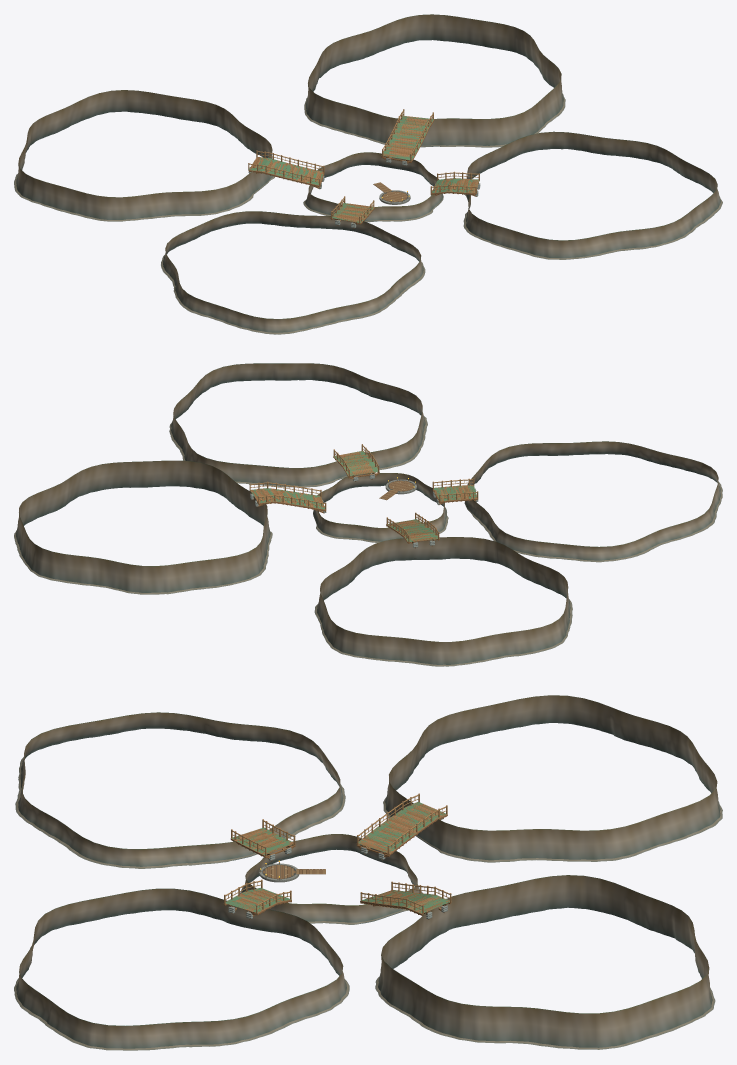
File: grade4-landscape-details-v4.glb
3 renders of one model, top to bottom at view 1: azimuth 30°, elevation 25°; view 2: azimuth 150°, elevation 25°; view 3: azimuth 270°, elevation 25°, orthographic. The views are drawn at different scales.
Visible parts, largest first — view 1: CoastV4_habitat-4_RockSection, CoastV4_habitat-3_RockSection, CoastV4_habitat-2_RockSection, CoastV4_habitat-1_RockSection, CoastV4_arrival_RockSection, Walk_BridgeV4_habitat-4_ContinuousProxy, CoastV4_habitat-1_WetShore, CoastV4_habitat-2_WetShore, CoastV4_habitat-3_WetShore, Walk_BridgeV4_habitat-3_ContinuousProxy, CoastV4_habitat-4_WetShore, BridgeV4_habitat-3_structure_V4_honey_rail; view 2: CoastV4_habitat-4_RockSection, CoastV4_habitat-3_RockSection, CoastV4_habitat-2_RockSection, CoastV4_habitat-1_RockSection, CoastV4_arrival_RockSection, CoastV4_habitat-3_WetShore, CoastV4_habitat-4_WetShore, CoastV4_habitat-1_WetShore, CoastV4_habitat-2_WetShore, BridgeV4_habitat-4_structure_V4_honey_rail, Walk_BridgeV4_habitat-2_ContinuousProxy; view 3: CoastV4_habitat-4_RockSection, CoastV4_habitat-3_RockSection, CoastV4_habitat-2_RockSection, CoastV4_habitat-1_RockSection, CoastV4_arrival_RockSection, CoastV4_habitat-2_WetShore, Walk_BridgeV4_habitat-3_ContinuousProxy, CoastV4_habitat-4_WetShore, CoastV4_habitat-1_WetShore, CoastV4_habitat-3_WetShore, Walk_BridgeV4_habitat-4_ContinuousProxy, BridgeV4_habitat-3_structure_V4_honey_rail (+2 smaller).
Part boxes in pixels (x1,y1,x2,y2): CoastV4_habitat-4_RockSection: [306, 14, 563, 147]; CoastV4_habitat-3_RockSection: [16, 90, 273, 219]; CoastV4_habitat-2_RockSection: [466, 131, 720, 258]; CoastV4_habitat-1_RockSection: [163, 211, 423, 332]; CoastV4_arrival_RockSection: [305, 152, 443, 222]; Walk_BridgeV4_habitat-4_ContinuousProxy: [383, 116, 433, 159]; CoastV4_habitat-1_WetShore: [161, 228, 425, 334]; CoastV4_habitat-2_WetShore: [463, 194, 722, 259]; CoastV4_habitat-3_WetShore: [14, 173, 274, 221]; Walk_BridgeV4_habitat-3_ContinuousProxy: [249, 157, 322, 185]; CoastV4_habitat-4_WetShore: [304, 94, 565, 147]; BridgeV4_habitat-3_structure_V4_honey_rail: [248, 151, 324, 186]; CoastV4_habitat-4_RockSection: [16, 460, 270, 592]; CoastV4_habitat-3_RockSection: [317, 537, 570, 664]; CoastV4_habitat-2_RockSection: [171, 363, 425, 485]; CoastV4_habitat-1_RockSection: [465, 441, 720, 560]; CoastV4_arrival_RockSection: [313, 473, 446, 541]; CoastV4_habitat-3_WetShore: [314, 558, 572, 666]; CoastV4_habitat-4_WetShore: [14, 530, 272, 594]; CoastV4_habitat-1_WetShore: [464, 481, 722, 562]; CoastV4_habitat-2_WetShore: [169, 416, 427, 487]; BridgeV4_habitat-4_structure_V4_honey_rail: [249, 482, 326, 509]; Walk_BridgeV4_habitat-2_ContinuousProxy: [334, 451, 377, 475]; CoastV4_habitat-4_RockSection: [378, 875, 712, 1047]; CoastV4_habitat-3_RockSection: [385, 695, 720, 860]; CoastV4_habitat-2_RockSection: [16, 888, 346, 1048]; CoastV4_habitat-1_RockSection: [18, 712, 343, 866]; CoastV4_arrival_RockSection: [242, 834, 419, 923]; CoastV4_habitat-2_WetShore: [14, 925, 349, 1050]; Walk_BridgeV4_habitat-3_ContinuousProxy: [358, 802, 445, 852]; CoastV4_habitat-4_WetShore: [375, 976, 715, 1049]; CoastV4_habitat-1_WetShore: [15, 754, 345, 868]; CoastV4_habitat-3_WetShore: [383, 734, 722, 862]; Walk_BridgeV4_habitat-4_ContinuousProxy: [361, 890, 449, 912]; BridgeV4_habitat-3_structure_V4_honey_rail: [357, 794, 447, 855].
Size of the model in its own units: 103 by 6.36 by 93.98.
